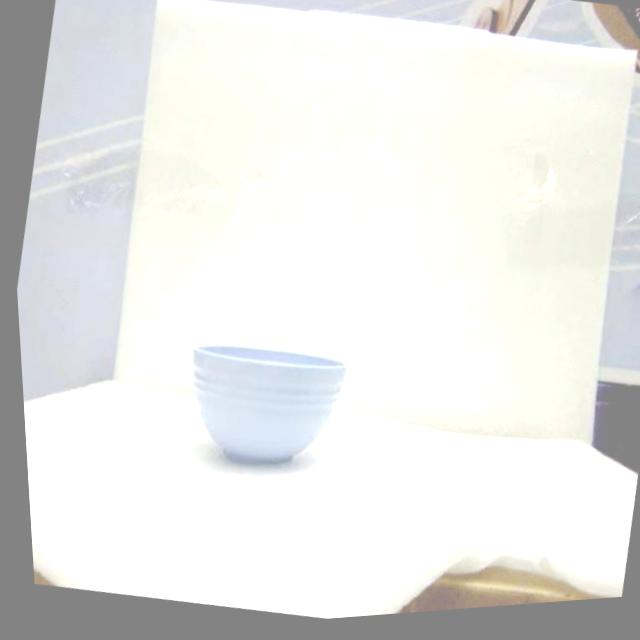Bowl: (193, 347, 345, 464)
